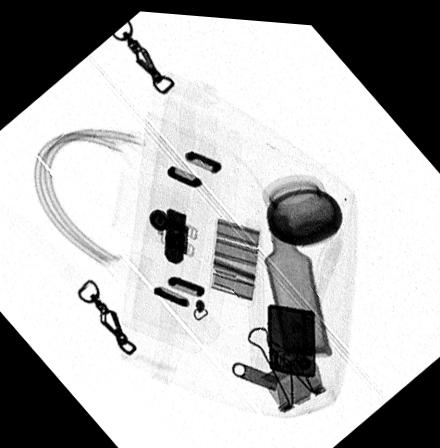Lighter: (265, 297, 317, 372)
